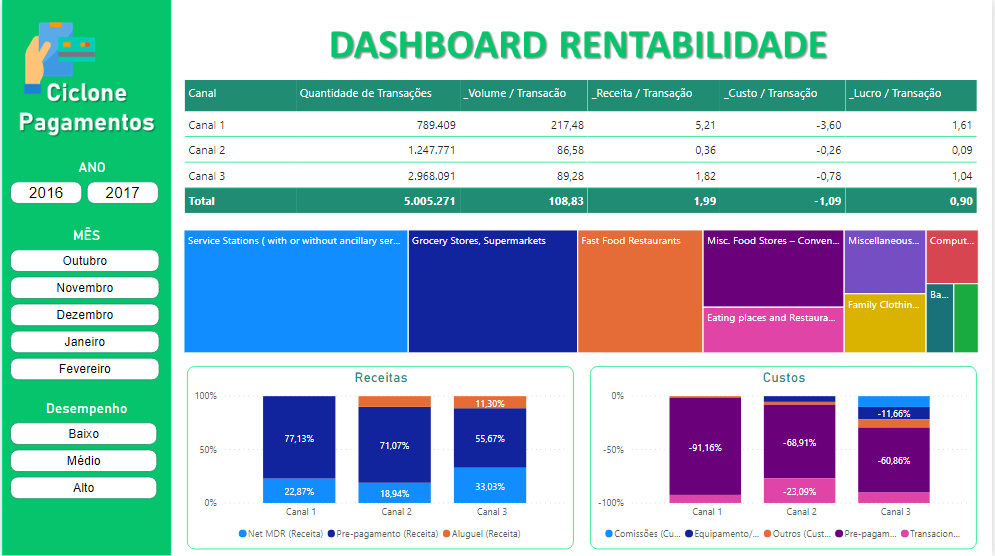

Layout of this report page (visuals, bound fields, positions):
{"tool":"powerbi","page":{"name":"Rentabilidade","canvas":[1280,720],"ordinal":4},"visuals":[{"type":"ChicletSlicer1448559807354","title":"ANO","fields":{"Category":["Clientes.Data Apuração.Variation.Date Hierarchy.Year"]},"box":[2.8,205.1,227.1,88.1],"z":0},{"type":"ChicletSlicer1448559807354","title":"MÊS","fields":{"Category":["Clientes.Mês Apuração"]},"box":[2.8,293.2,213.3,224.3],"z":1000},{"type":"ChicletSlicer1448559807354","title":"Desempenho","fields":{"Category":["Clientes.Cluster"]},"box":[2.8,517.5,213.3,150],"z":2000},{"type":"treemap","fields":{"Group":["mcc_codes.edited_description"],"Values":["Sum(Clientes.Quantidade de Transações)"]},"box":[230.1,292.5,1036.7,169],"z":3000},{"type":"tableEx","fields":{"Values":["Clientes.Canal","Sum(Clientes.Quantidade de Transações)","Clientes._Volume / Transacão","Clientes._Receita / Transação","Clientes._Custo / Transação","Clientes._Lucro / Transação"]},"box":[230.1,98,1036.7,194.6],"z":4000},{"type":"hundredPercentStackedColumnChart","title":"Custos","fields":{"Category":["Clientes.Canal"],"Y":["Sum(Clientes.Comissões (Custos))","Sum(Clientes.Equipamento/Logística (Custos))","Sum(Clientes.Outros (Custos))","Sum(Clientes.Pre-pagamento (Custos))","Sum(Clientes.Transacionais (Custos))"]},"box":[759.8,472.9,499.9,237.2],"z":5000},{"type":"hundredPercentStackedColumnChart","title":"Receitas","fields":{"Y":["Sum(Clientes.Net MDR (Receita))","Sum(Clientes.Pre-pagamento (Receita))","Sum(Clientes.Aluguel (Receita))"],"Category":["Clientes.Canal"]},"box":[238.6,472.9,499.9,237.2],"z":6000}]}

Visuals, with their boxes in screenshot pixels (x1, y1, x2, y2), scaled from the page's 1280x720 canvas onto the 995x556 screenshot:
"ANO" ChicletSlicer1448559807354: bbox(2, 158, 179, 226)
"MÊS" ChicletSlicer1448559807354: bbox(2, 226, 168, 400)
"Desempenho" ChicletSlicer1448559807354: bbox(2, 400, 168, 515)
treemap - mcc_codes.edited_description x Sum(Clientes.Quantidade de Transações): bbox(179, 226, 985, 356)
tableEx - Clientes.Canal x Sum(Clientes.Quantidade de Transações): bbox(179, 76, 985, 226)
"Custos" hundredPercentStackedColumnChart: bbox(591, 365, 979, 548)
"Receitas" hundredPercentStackedColumnChart: bbox(185, 365, 574, 548)
